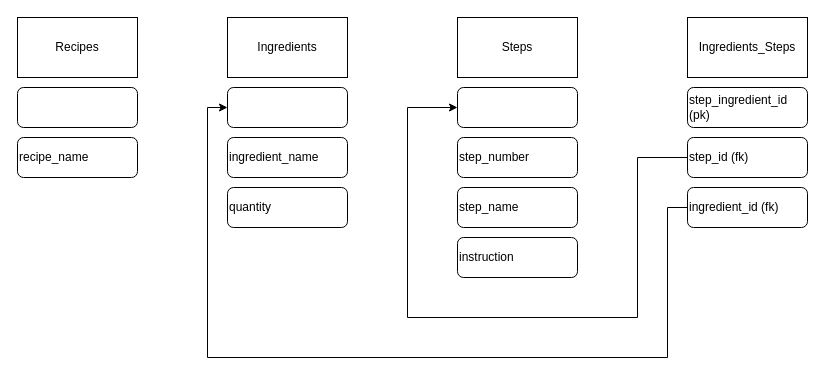
Some shapes in this 825 by 383 pixel diagram are drawn without their labels. The shapes that lost their labels are listed below. From the top down, each one's centre as x and y in pixels, then its label:
At (77,107): "recipe_id (pk)".
At (287,107): "ingredient_id (pk)".
At (517,107): "step_id (pk)".
